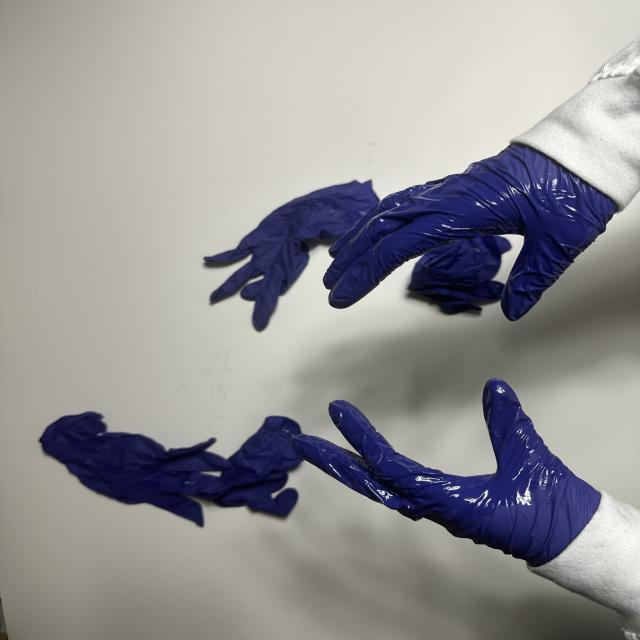gloves_contaminated: (302, 380, 599, 566), (324, 145, 618, 320)
